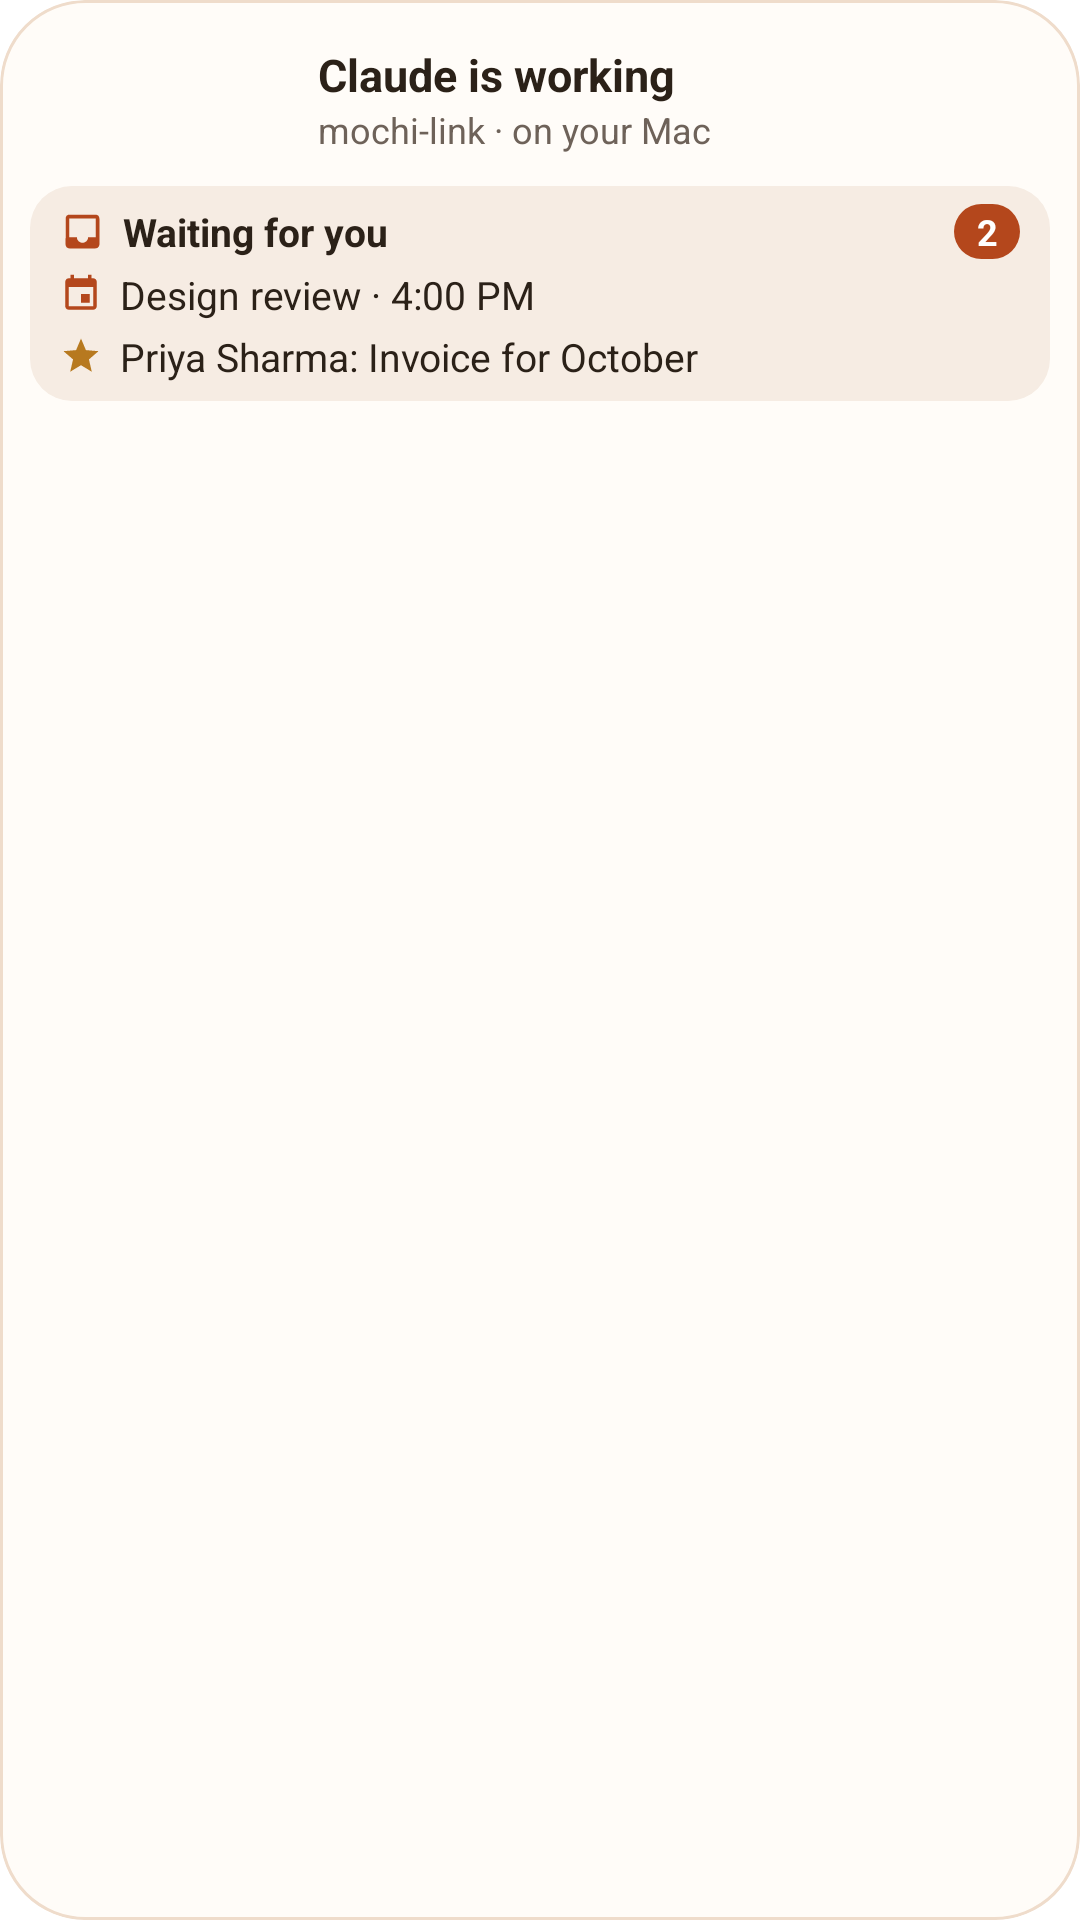

Named icons in this screenshot (1080x1920) and their centers, [x,y]:
mochi widget calendar: [81,292]
mochi widget inbox: [82,231]
mochi widget star: [81,355]
